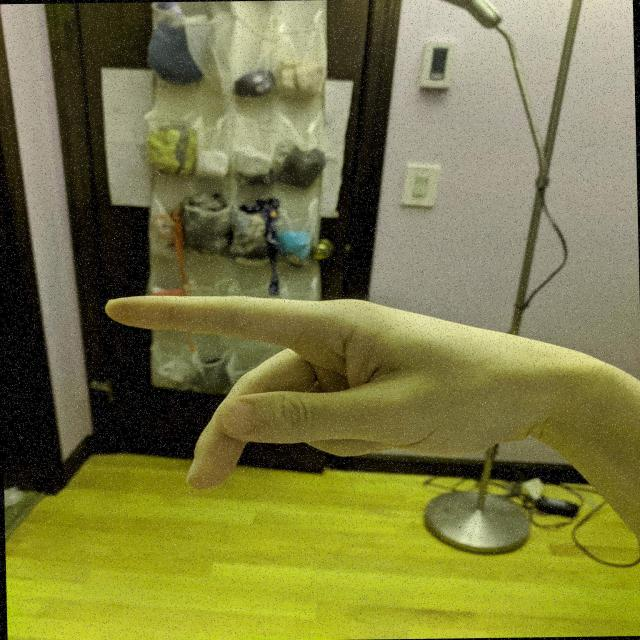P: (97, 282, 571, 494)
